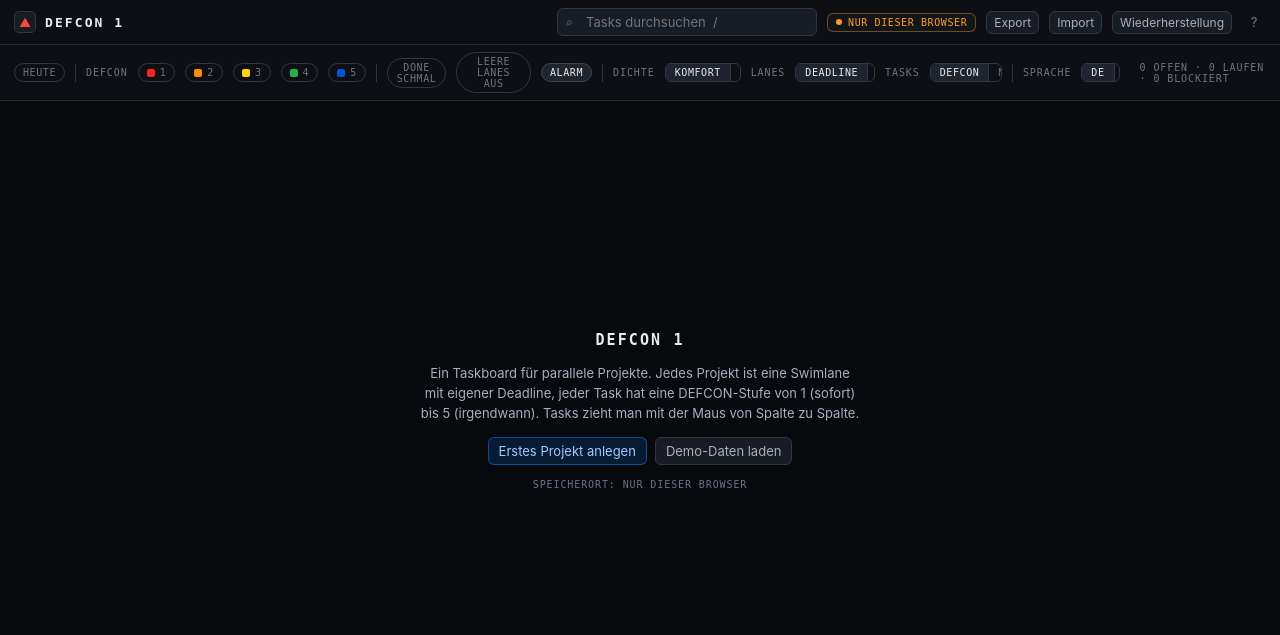
Test: App › creates a task from the quick-add mini syntax
The image size is (1280, 635).
Click the button "Demo-Daten laden": (724, 451) [655,437,792,465]
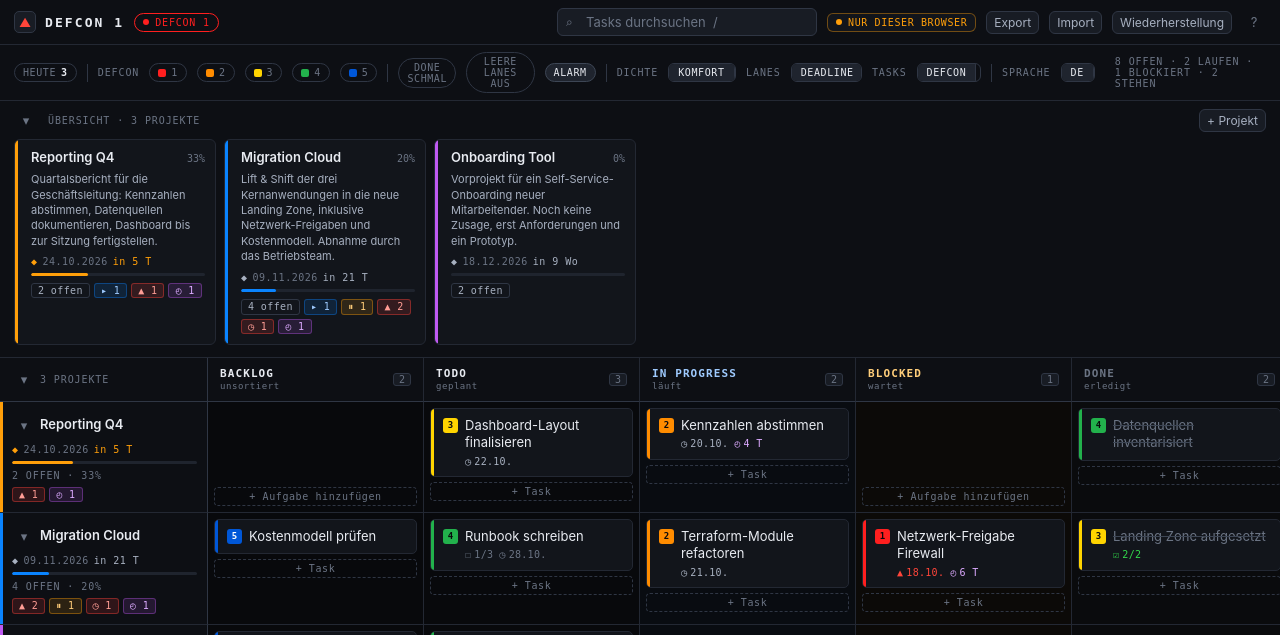
Press n
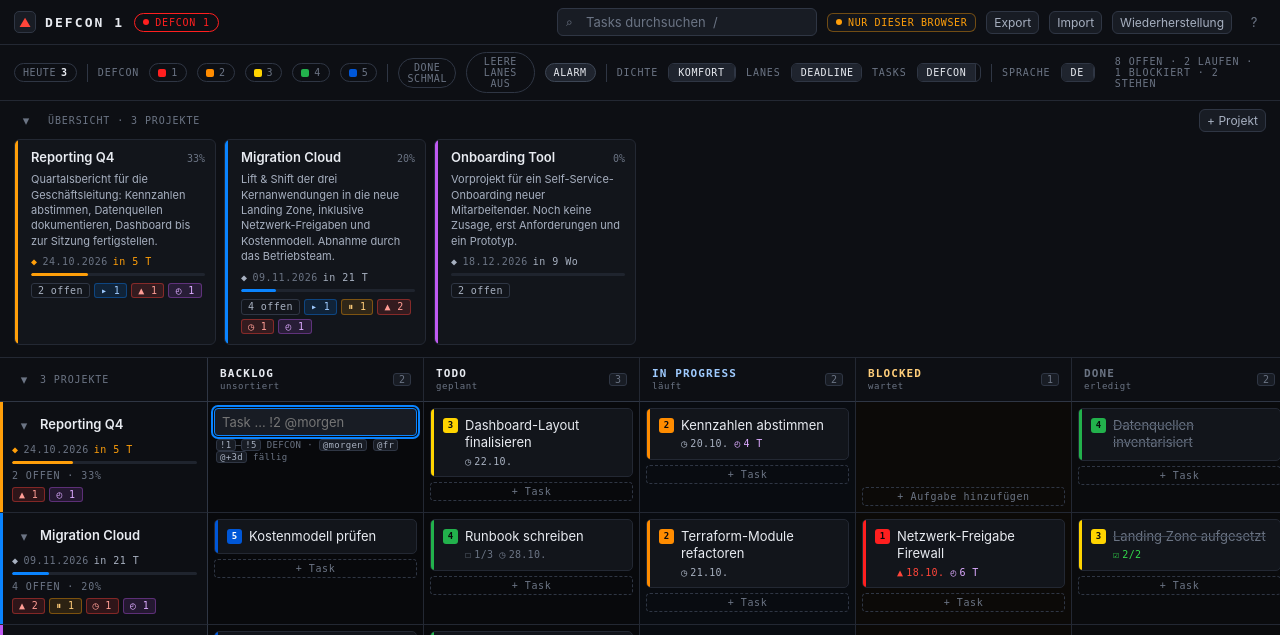
In the field named "Neuer Task": (316, 422) [214,408,417,436], type "Firewall-Ticket eröffnen !2 @morgen"
Then press Enter
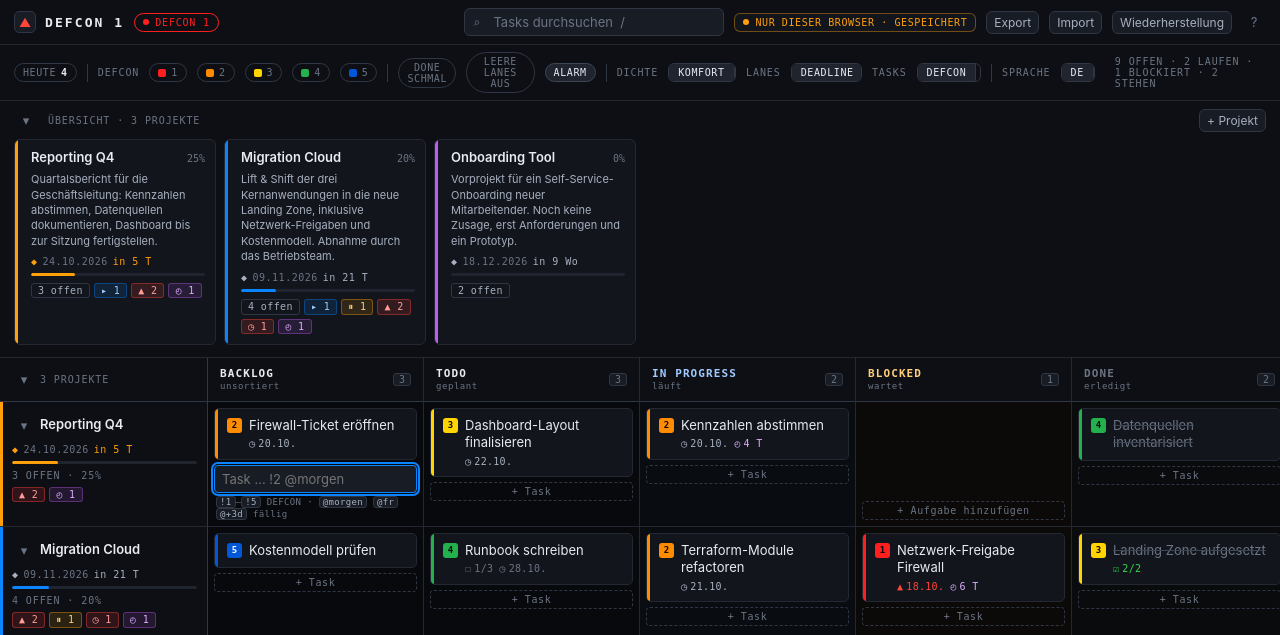
Expected: the button "2 Firewall-Ticket eröffnen ◷ 20.10." is shown, [214,408,417,460]
Expected: the text "Firewall-Ticket eröffnen" is shown, [249,417,406,434]
